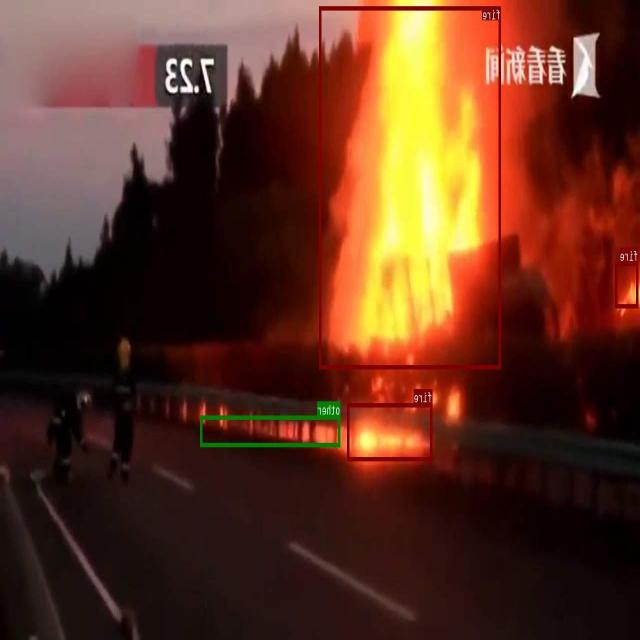fire: (320, 6, 501, 369), (348, 402, 432, 460), (616, 261, 639, 307)
other: (200, 415, 340, 446)
